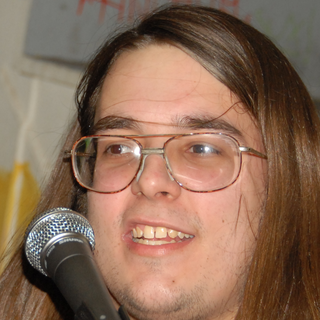eye: (179, 138, 233, 162), (101, 138, 135, 160)
